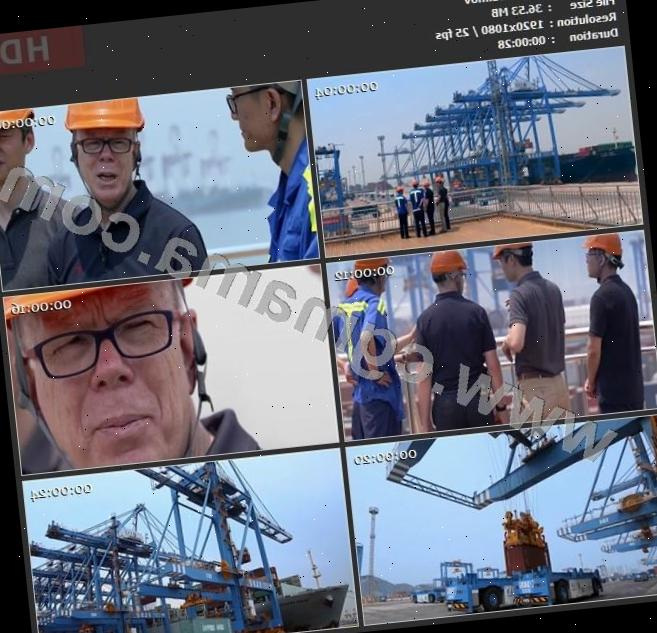helmet: (60, 97, 144, 138), (580, 231, 632, 262), (426, 246, 466, 278), (488, 238, 534, 260)
